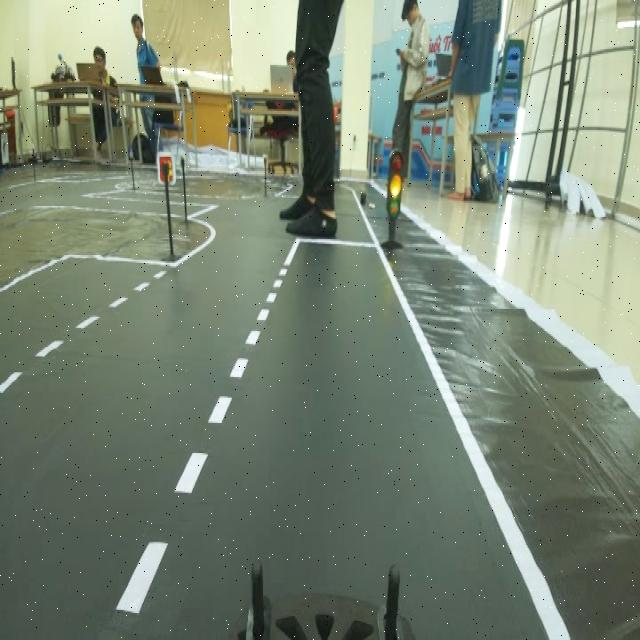trafficlight: (370, 145, 415, 257)
